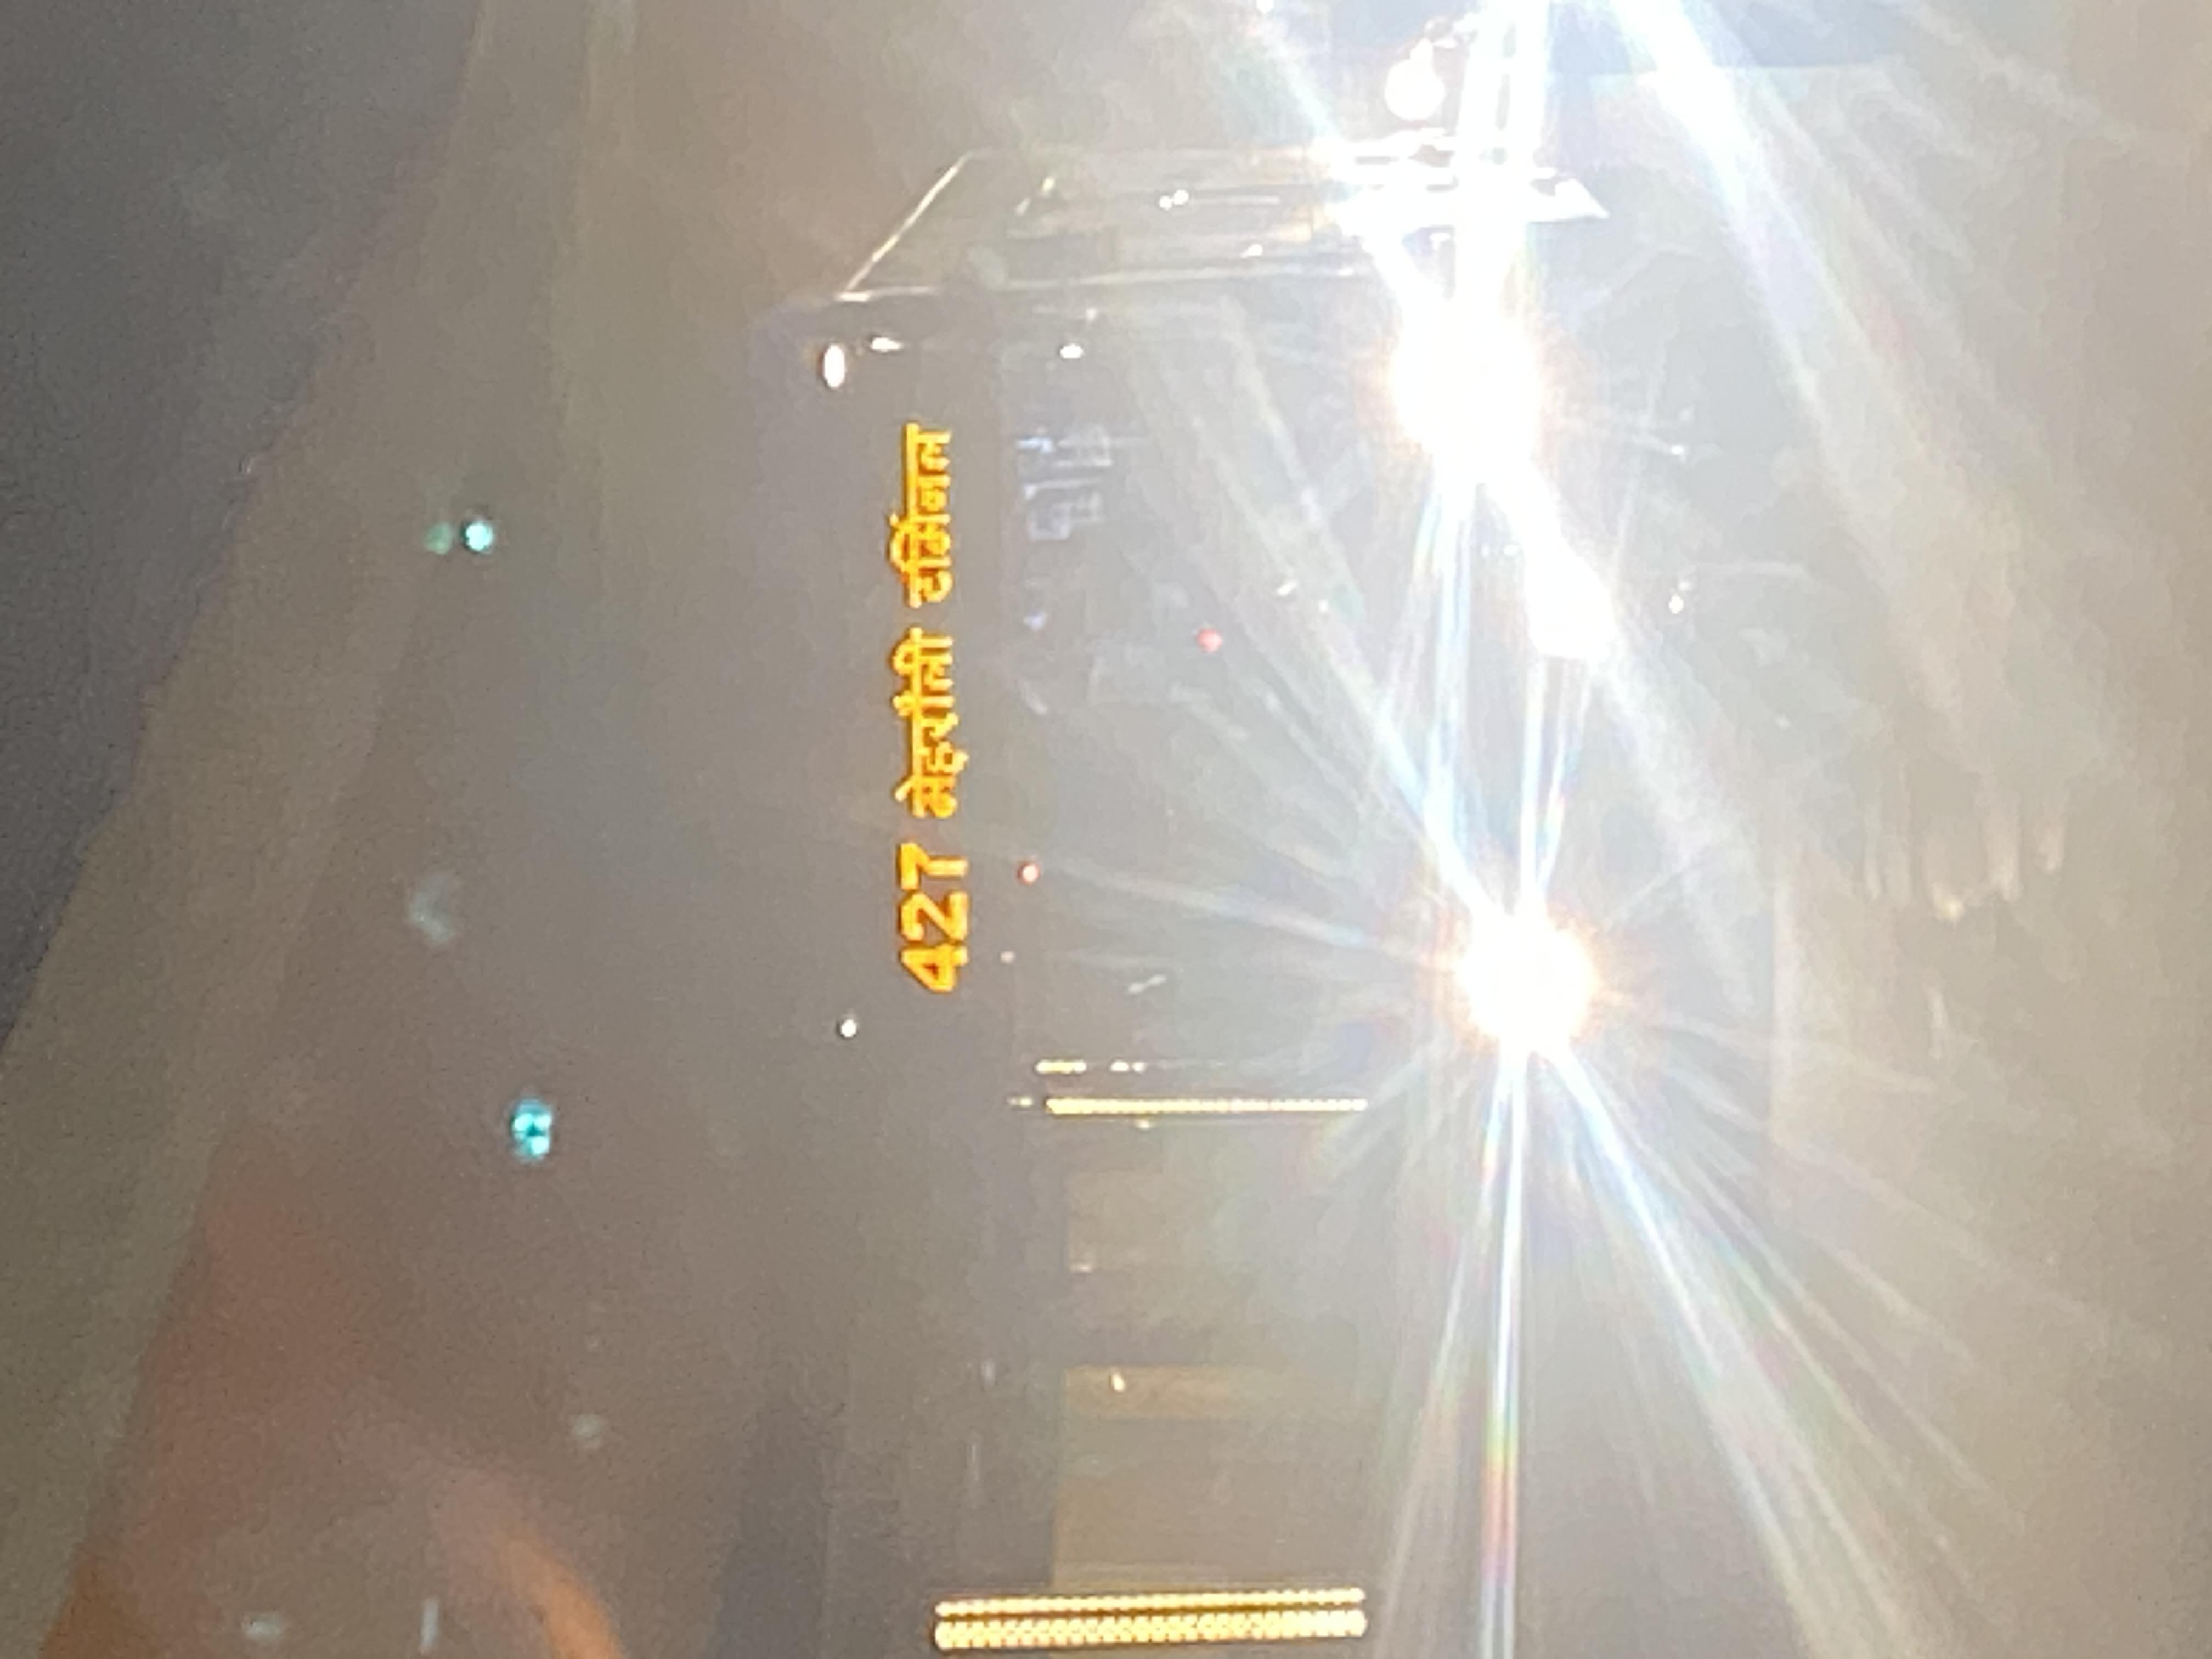Bus: (752, 242, 1778, 1190)
Display Board: (817, 335, 1015, 1021)
